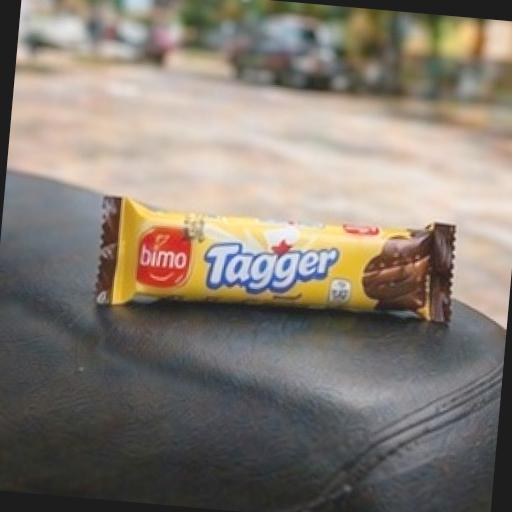tagger: (59, 151, 510, 384)
